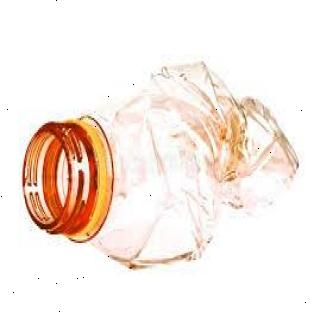Plastic-bottle: (22, 57, 302, 275)
